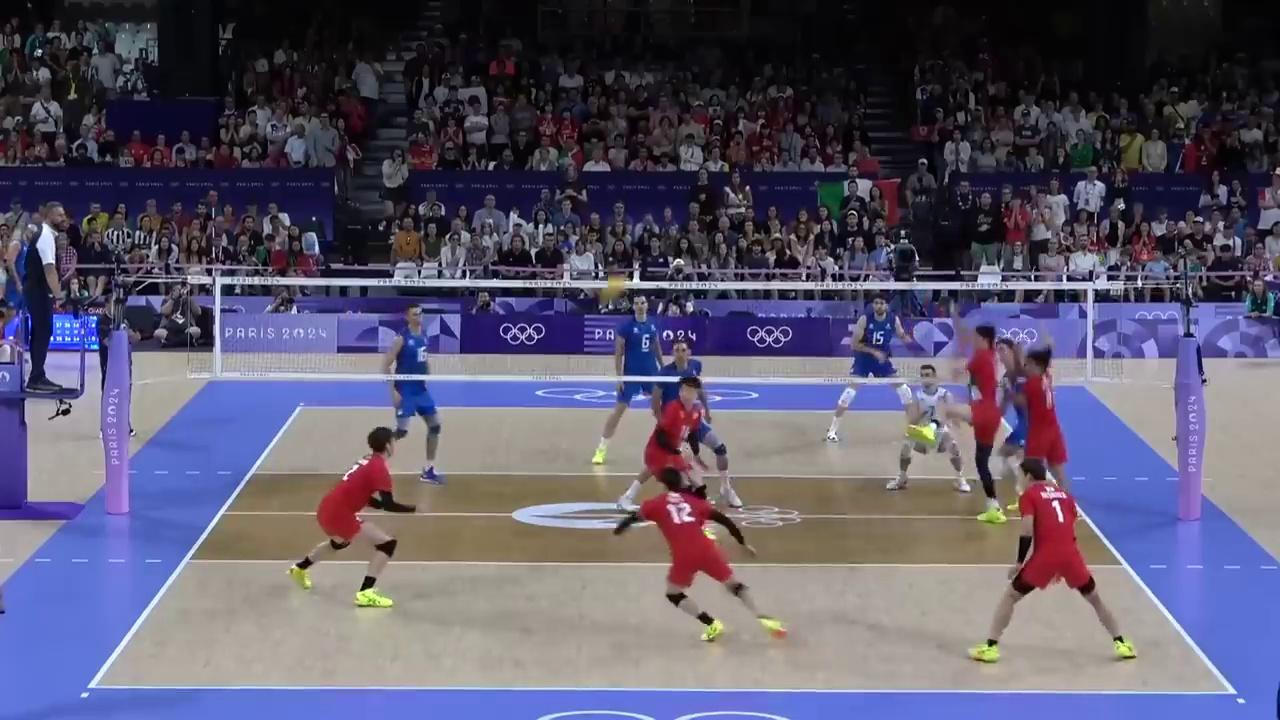ball: (599, 279, 624, 305)
